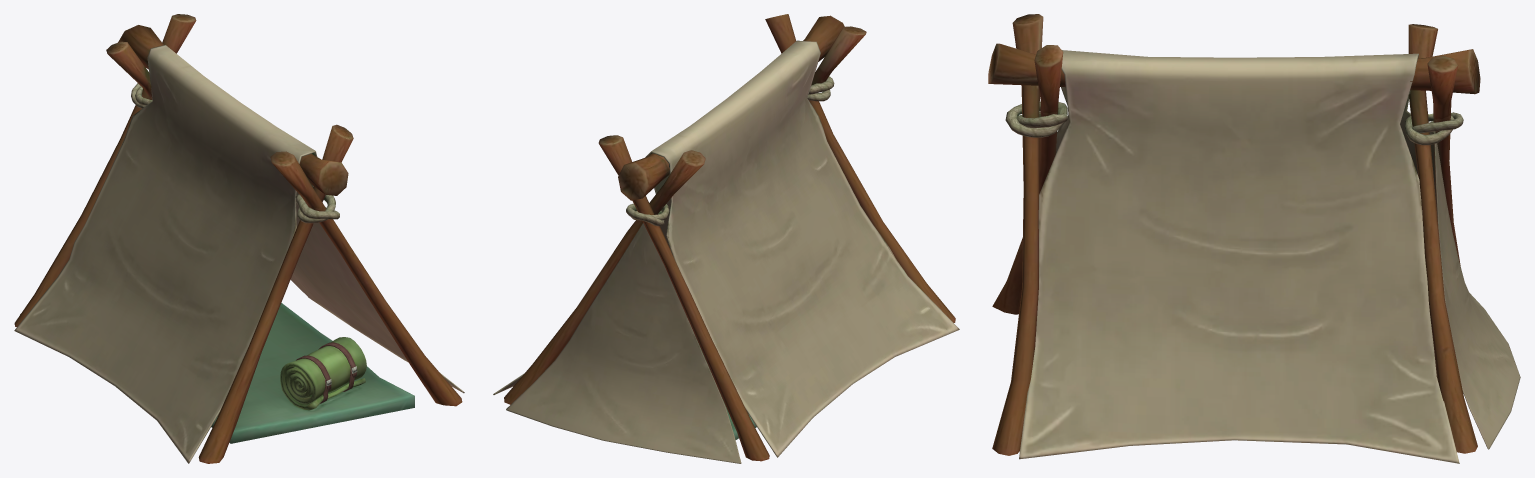
File: stylized_tent-transformed.glb
The picture shows the model from 3 angles, left to right: view 1: azimuth 30°, elevation 25°; view 2: azimuth 150°, elevation 25°; view 3: azimuth 270°, elevation 25°; orthographic projection. The views are drawn at different scales.
Visible parts, largest first — view 1: tent_Mat_0; view 2: tent_Mat_0; view 3: tent_Mat_0.
Boxes of the visible parts, bbox=[...] form: tent_Mat_0: bbox=[14, 14, 464, 463]; tent_Mat_0: bbox=[493, 14, 959, 463]; tent_Mat_0: bbox=[988, 14, 1520, 463].
Bounding box in the file's own units: 184 × 179 × 248.
1 material, 1 textured.
